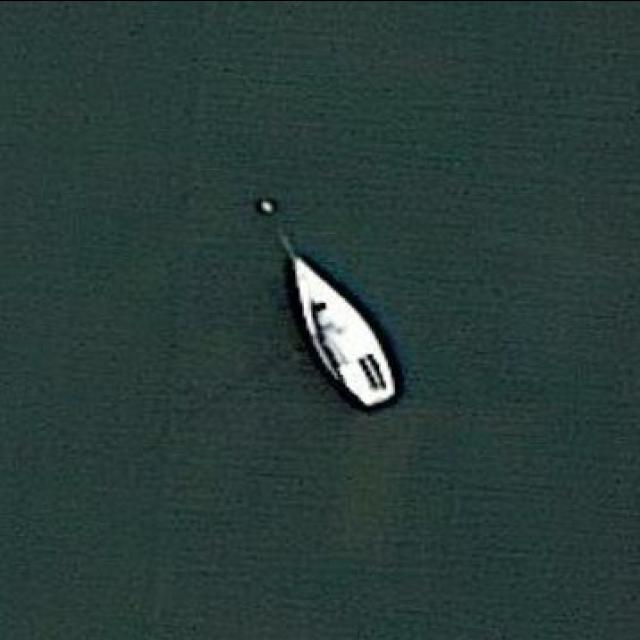ship: (290, 256, 400, 412)
